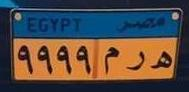9: (36, 43, 53, 77), (17, 44, 34, 78), (75, 44, 92, 77), (55, 45, 72, 76)
haa: (150, 49, 173, 74)
meem: (104, 45, 121, 78)
raa: (124, 49, 146, 74)
